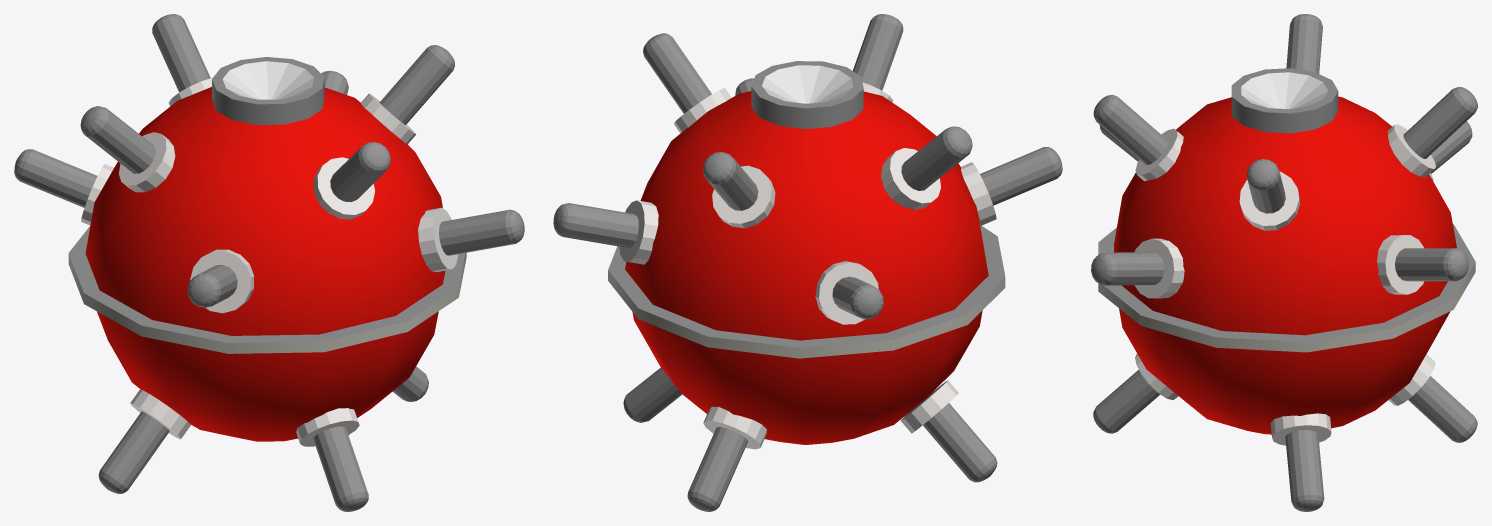
The model's file is red-bomb.fbx.
The picture shows the model from 3 angles, left to right: view 1: azimuth 30°, elevation 25°; view 2: azimuth 150°, elevation 25°; view 3: azimuth 270°, elevation 25°; orthographic projection. The views are drawn at different scales.
Visible parts, largest first — view 1: Sphere.002; view 2: Sphere.002; view 3: Sphere.002.
Boxes of the visible parts, x1,y1,x2,y2 form: Sphere.002: (14,14,524,511); Sphere.002: (553,14,1062,511); Sphere.002: (1091,14,1477,511).
Size of the model in its own units: 220 by 222 by 221.
